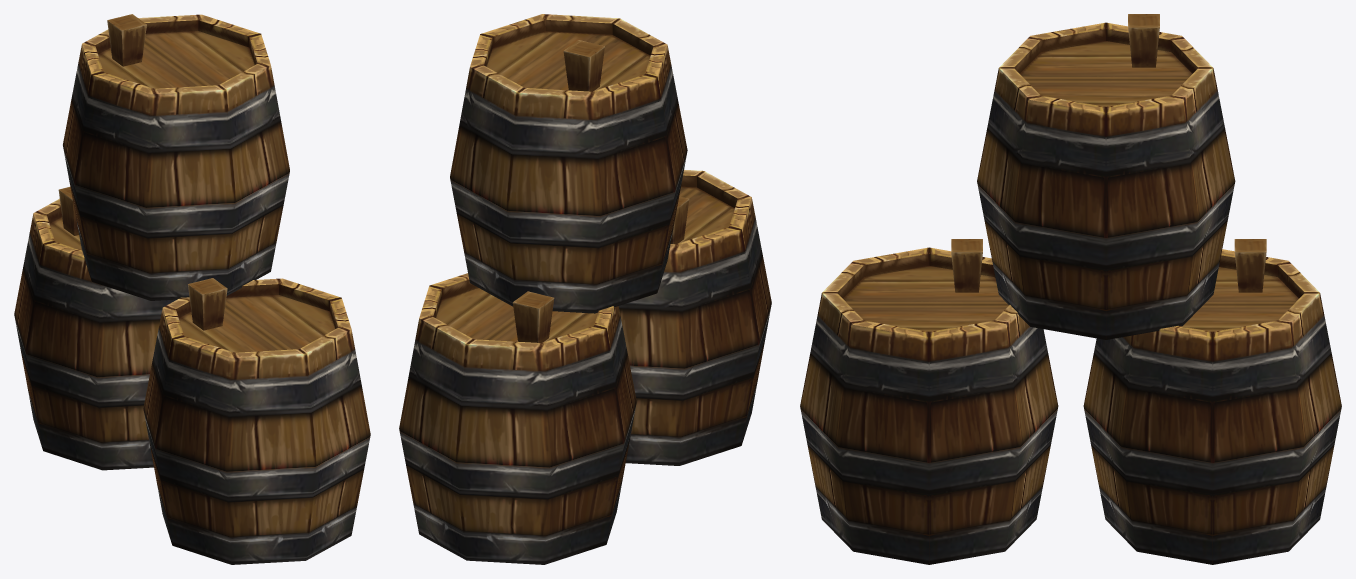
File: Tong02.FBX
3 views of the same model, side by side, from view 1: azimuth 30°, elevation 25°; view 2: azimuth 150°, elevation 25°; view 3: azimuth 270°, elevation 25° (orthographic). The views are drawn at different scales.
Parts seen in each view (by area): view 1: jiutong_03; view 2: jiutong_03; view 3: jiutong_03.
Boxes of the visible parts, x1,y1,x2,y2 form: jiutong_03: (14, 14, 370, 564); jiutong_03: (399, 14, 771, 564); jiutong_03: (800, 14, 1341, 564).
Size of the model in its own units: 42.4 by 87.21 by 88.93.
